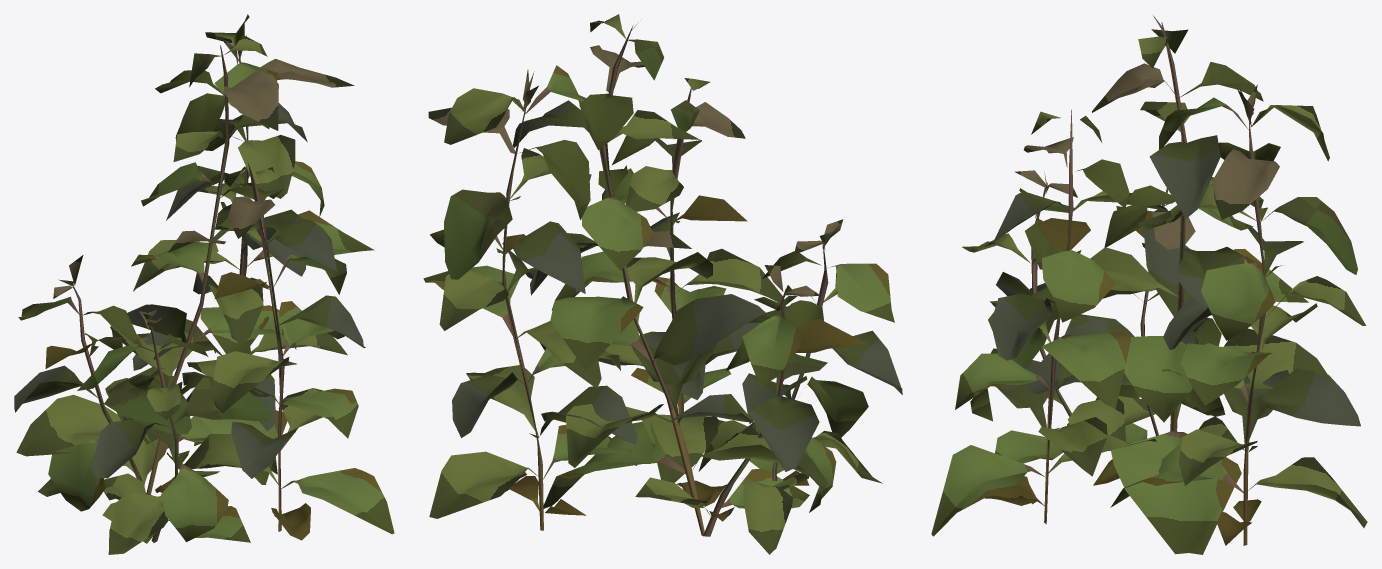
Rendered from ph_shrub_5.glb.
3 views of the same model, side by side, from view 1: azimuth 30°, elevation 25°; view 2: azimuth 150°, elevation 25°; view 3: azimuth 270°, elevation 25° (orthographic). The views are drawn at different scales.
Visible parts, largest first — view 1: ph_shrub_5_lod1; view 2: ph_shrub_5_lod1; view 3: ph_shrub_5_lod1.
Part boxes in pixels (bbox=[...]): ph_shrub_5_lod1: bbox=[14, 14, 394, 554]; ph_shrub_5_lod1: bbox=[423, 14, 902, 554]; ph_shrub_5_lod1: bbox=[931, 15, 1367, 554].
Bounding box in the file's own units: 0.3059 × 0.3599 × 0.2827.
Materials: 1 (1 with a texture image).
